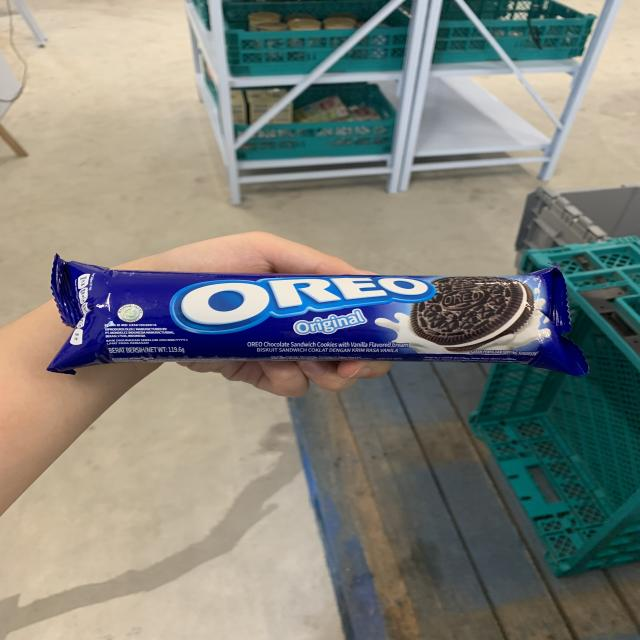object_name: (59, 269, 538, 353)
